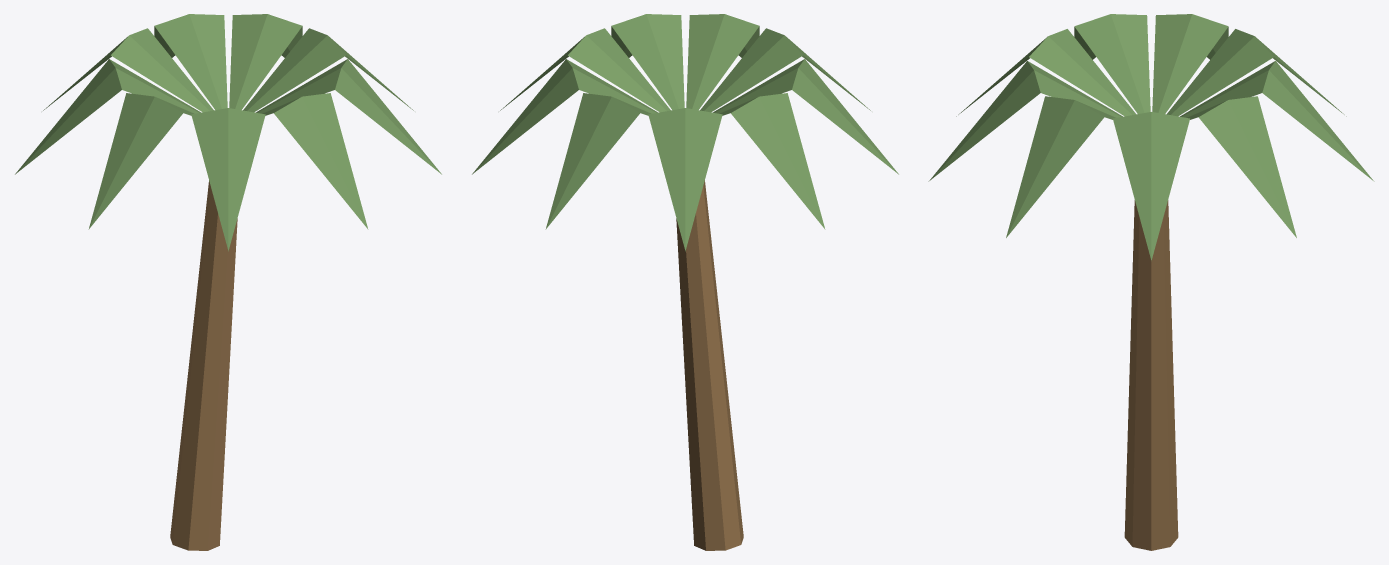
Rendered from arvore_palmeira.glb.
3 views of the same model, side by side, from view 1: azimuth 30°, elevation 25°; view 2: azimuth 150°, elevation 25°; view 3: azimuth 270°, elevation 25° (orthographic). The views are drawn at different scales.
Visible parts, largest first — view 1: deserto_arvore_palmeira; view 2: deserto_arvore_palmeira; view 3: deserto_arvore_palmeira.
Part boxes in pixels (x1,y1,x2,y2): deserto_arvore_palmeira: (15,14,441,550); deserto_arvore_palmeira: (472,14,898,550); deserto_arvore_palmeira: (928,14,1374,550).
Bounding box in the file's own units: 1.47 × 1.83 × 1.5.
